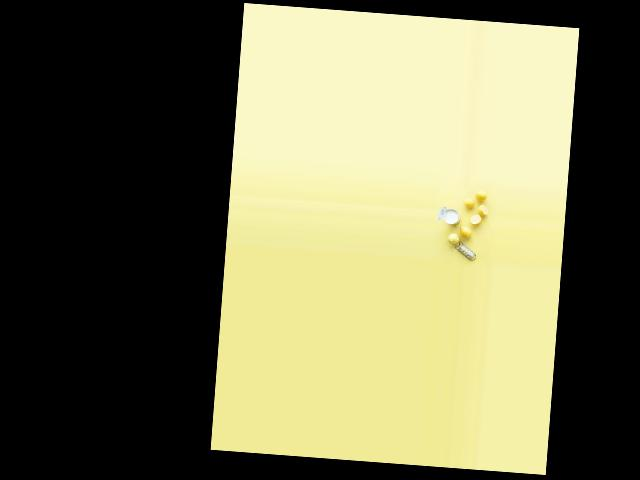lemon: (446, 230, 461, 243)
